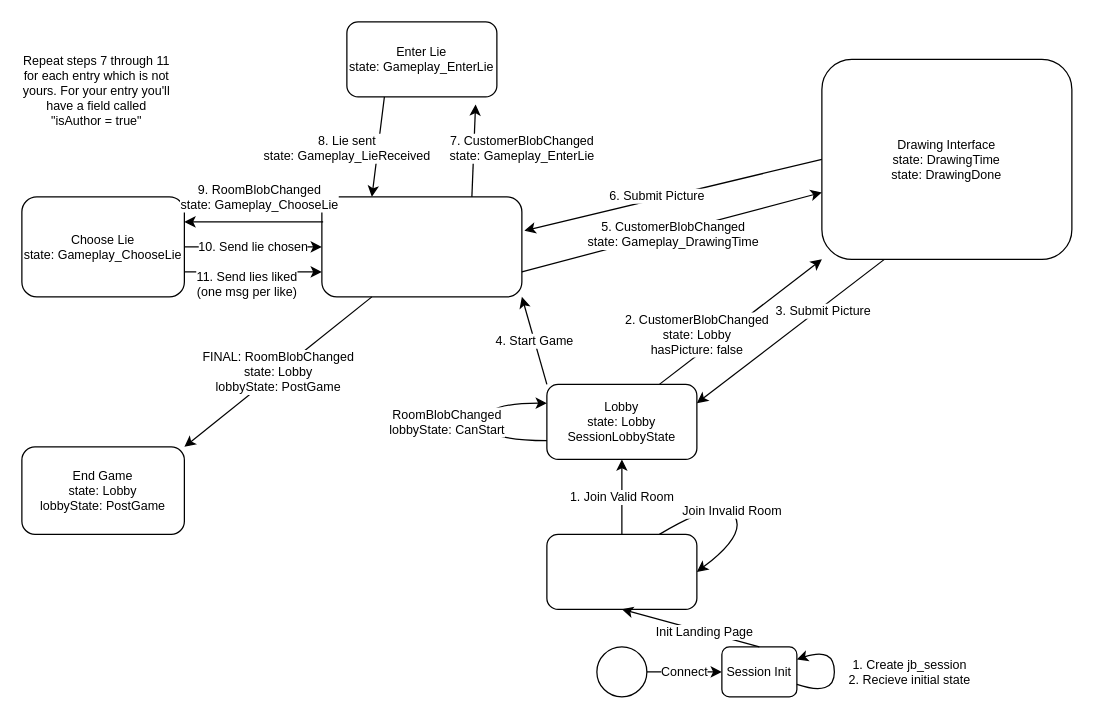
This 1094x719 diagram has some shape labels left out. Here are the shapes that lost their labels. From the top down, the centre of each, then its label:
At pixel 421 246: "Start Game state: Lobby:Countdown state: Gameplay_Logo state: Waiting state".
At pixel 621 571: "Landing Page SessionLoginState".
At pixel 621 671: "Initial".
